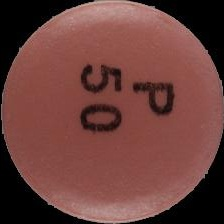63187-714: (0, 0, 224, 224)
